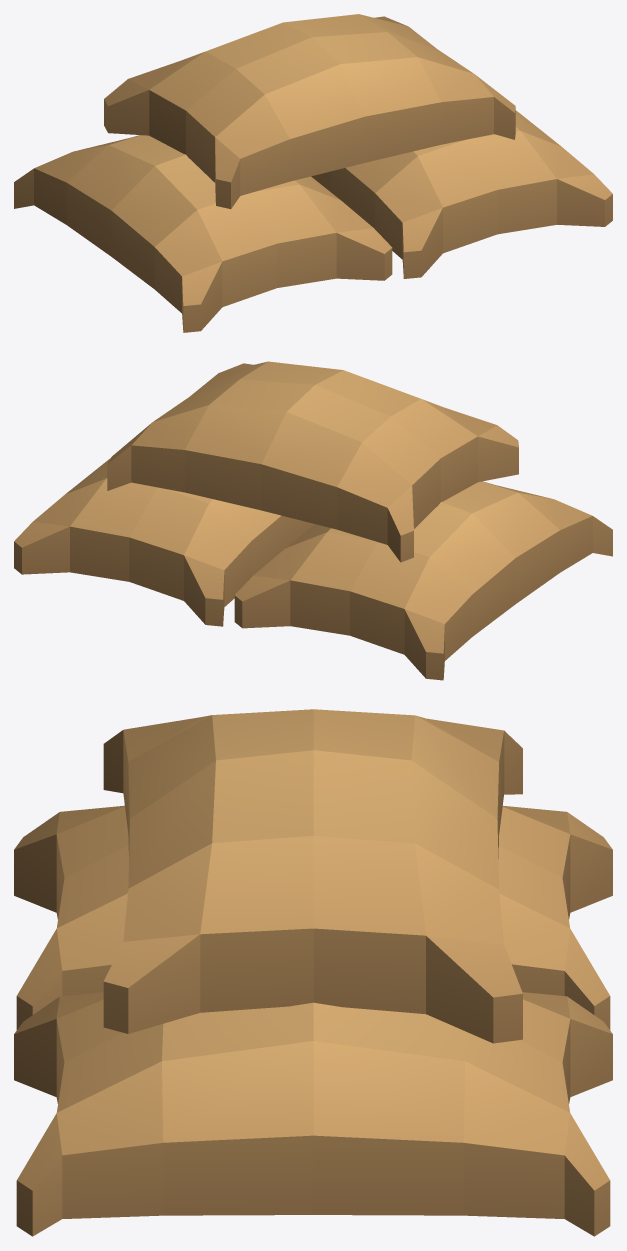
The model's file is sugar bags.fbx.
3 renders of one model, top to bottom at view 1: azimuth 30°, elevation 25°; view 2: azimuth 150°, elevation 25°; view 3: azimuth 270°, elevation 25°, orthographic. The views are drawn at different scales.
Parts seen in each view (by area): view 1: sugar_bags; view 2: sugar_bags; view 3: sugar_bags.
Part boxes in pixels (bbox=[...]): sugar_bags: bbox=[14, 14, 612, 332]; sugar_bags: bbox=[14, 361, 612, 680]; sugar_bags: bbox=[14, 709, 612, 1236].
Bounding box in the file's own units: 263 × 110 × 184.
Materials: 1 (1 with a texture image).
